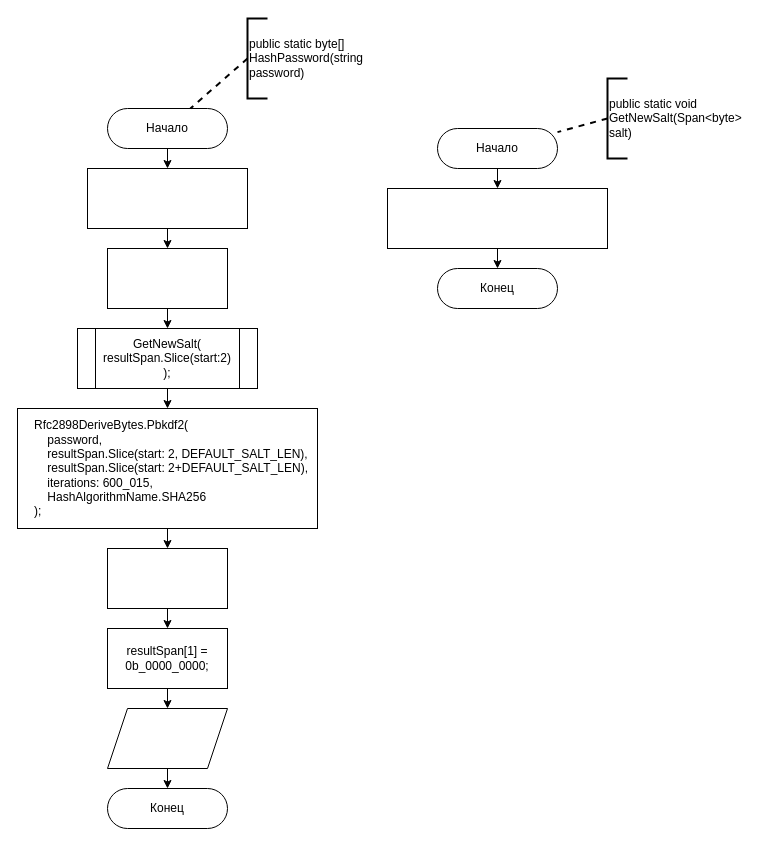
Some shapes in this 760 by 846 pixel diagram are drawn without their labels. The shapes that lost their labels are listed below. From the top down, each one's centre as x and y in pixels, then its label:
the point at 167,198: byte[] result = new byte[64];
the point at 497,218: RandomNumberGenerator.Fill(salt);
the point at 167,278: Span<byte> resultSpan = result;
the point at 167,578: resultSpan[0] = 0b_0000_0001;
the point at 167,738: return result;
